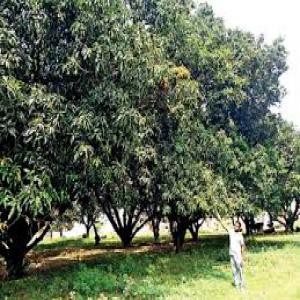Tree: (3, 3, 299, 257)
